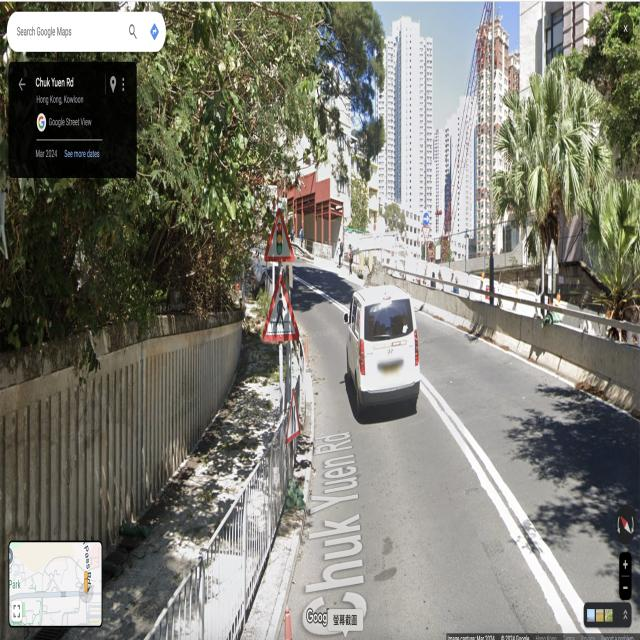Warning-Sign: (260, 273, 301, 341), (263, 208, 296, 262)
